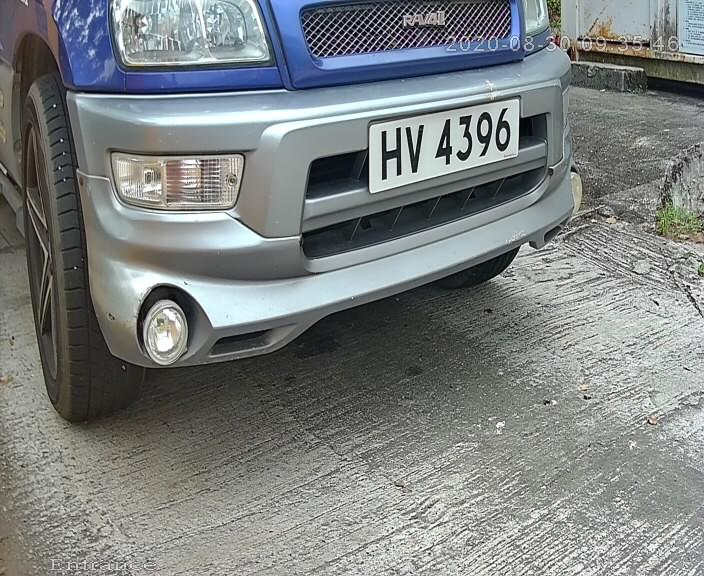License Plate: (353, 88, 532, 209)
